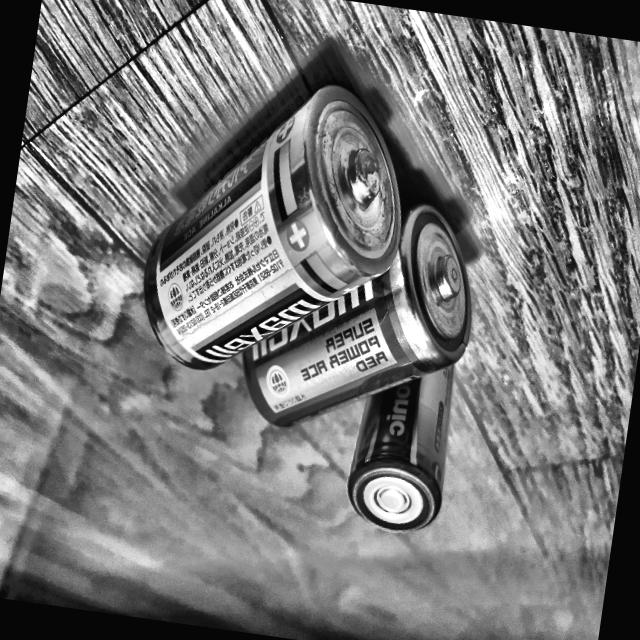drycell: (124, 41, 430, 403), (228, 175, 498, 463)
